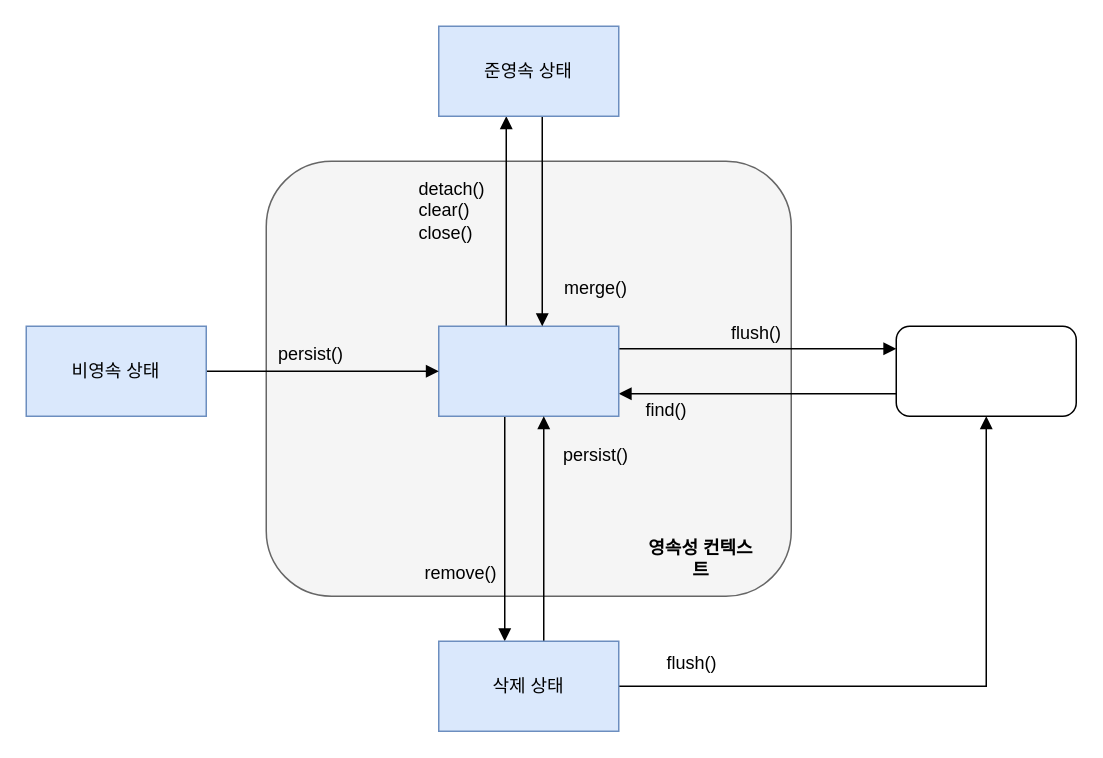
This 1103x758 diagram has some shape labels left out. Here are the shapes that lost their labels. From the top down, the box of each, then its label:
(437, 325, 619, 416): 영속 상태
(895, 325, 1076, 416): 데이터베이스
